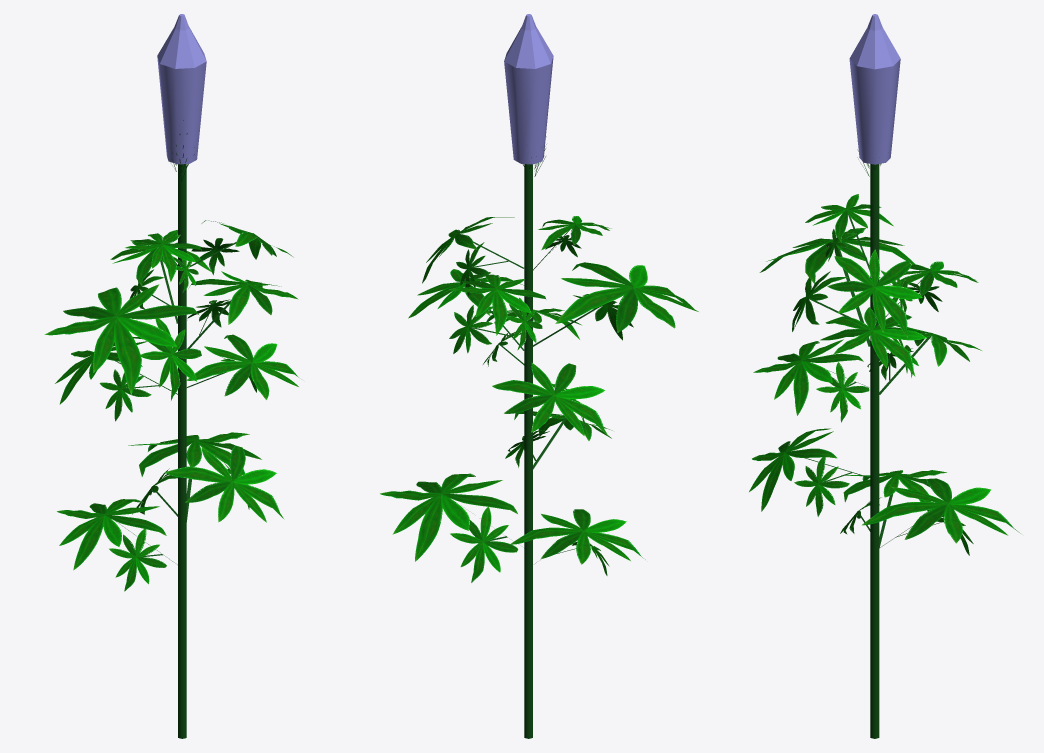
The model's file is lupine.FBX.
The picture shows the model from 3 angles, left to right: view 1: azimuth 30°, elevation 25°; view 2: azimuth 150°, elevation 25°; view 3: azimuth 270°, elevation 25°; orthographic projection.
Parts seen in each view (by area): view 1: Cylinder017; view 2: Cylinder017; view 3: Cylinder017.
Boxes of the visible parts, x1=… form: Cylinder017: x1=44, y1=14, x2=301, y2=738; Cylinder017: x1=380, y1=14, x2=698, y2=738; Cylinder017: x1=749, y1=14, x2=1020, y2=738.
Bounding box in the file's own units: 2.73 × 6.24 × 2.36.
